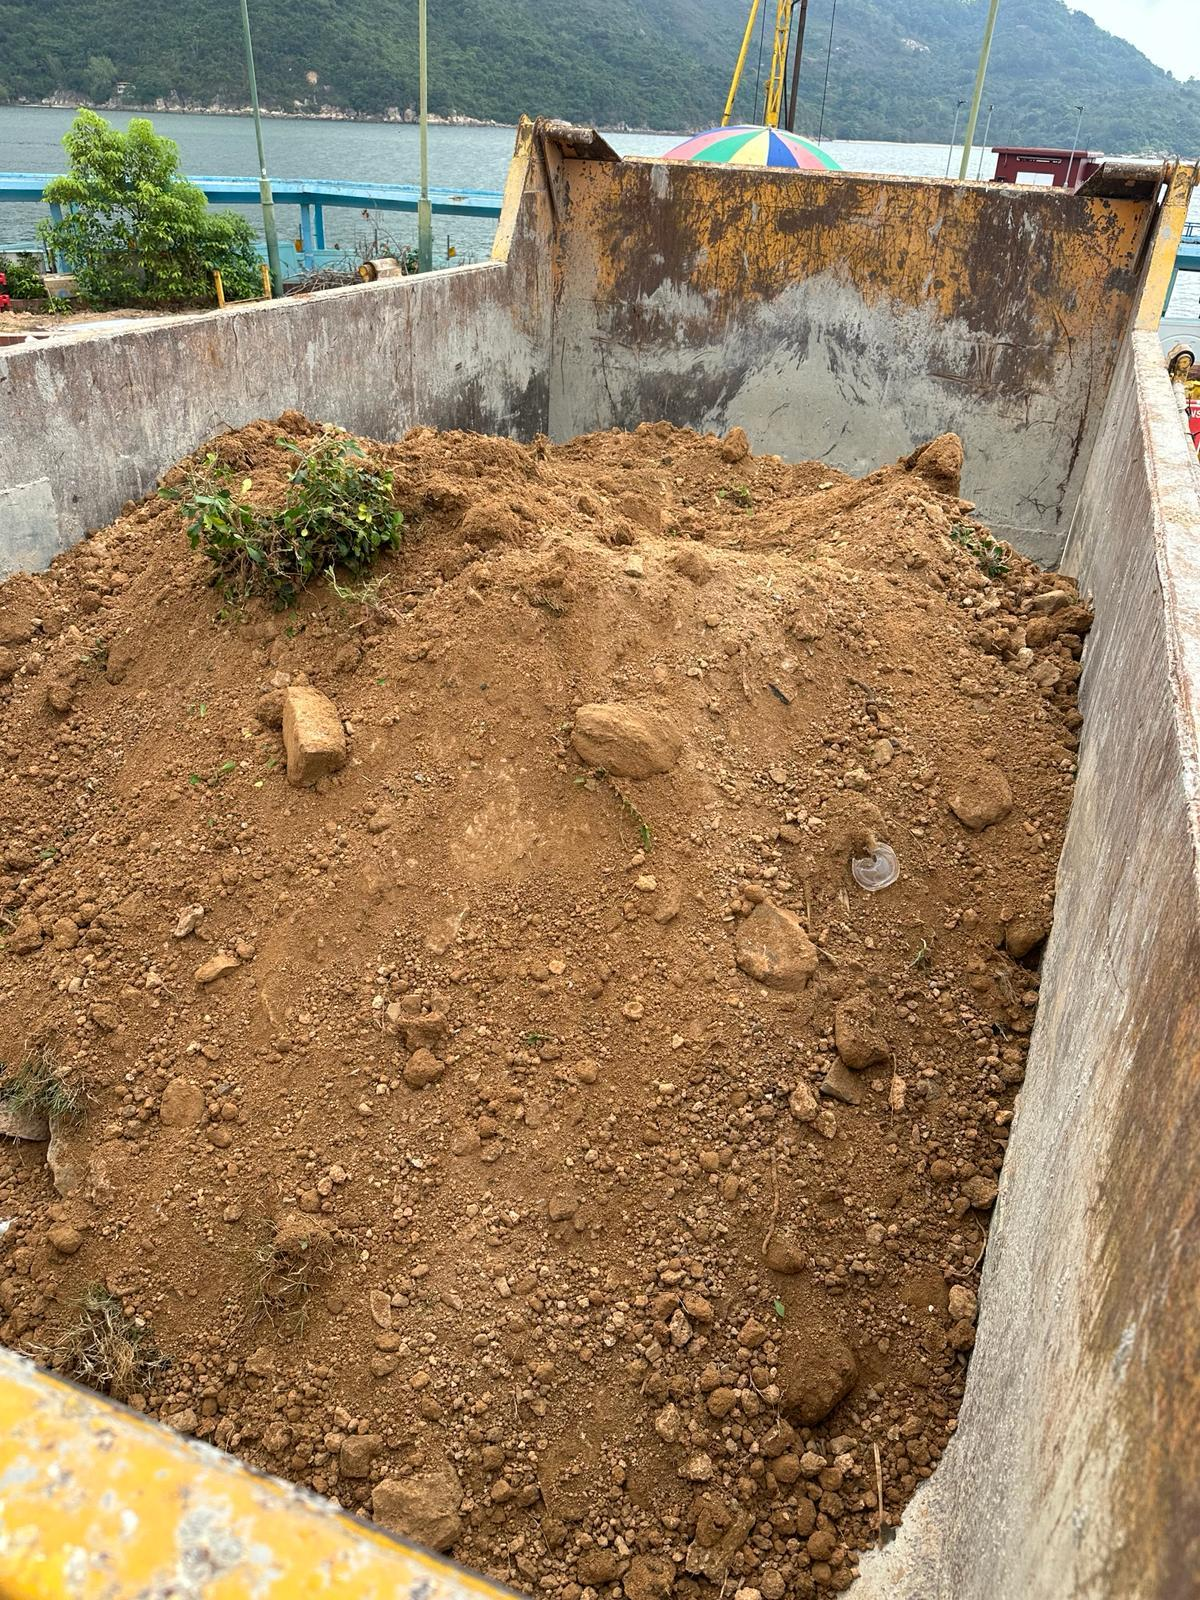dry: (0, 414, 1100, 1590)
